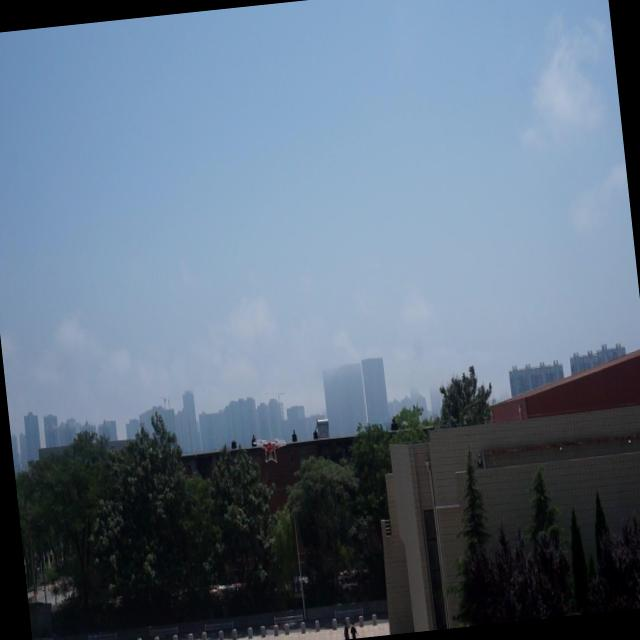drone: (252, 436, 288, 466)
